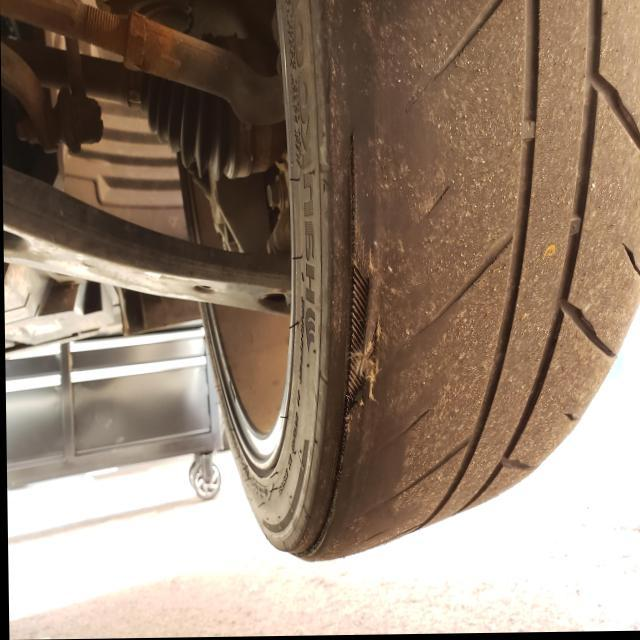Flat spots: (341, 0, 484, 496)
